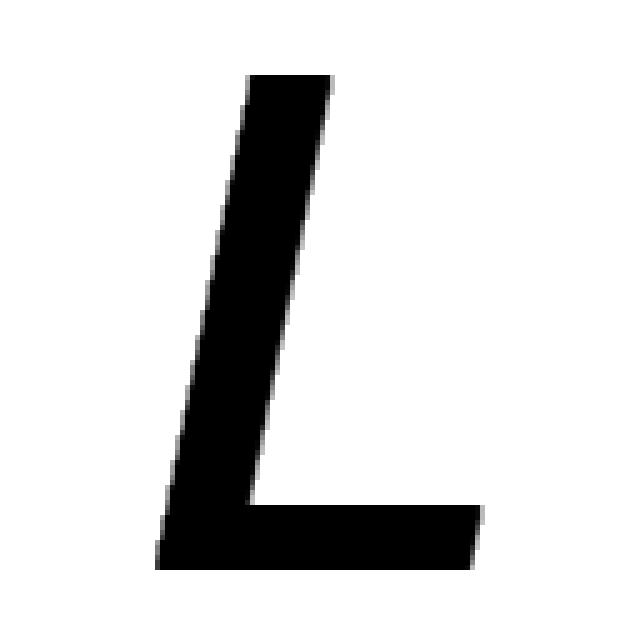L: (150, 68, 504, 577)
